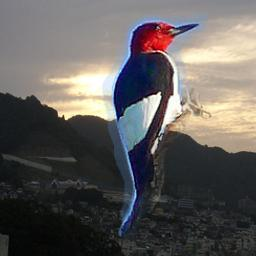Woodpecker: (93, 6, 212, 237)
